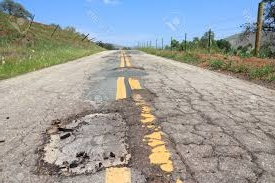pothole: (30, 103, 127, 178), (94, 63, 147, 80)
